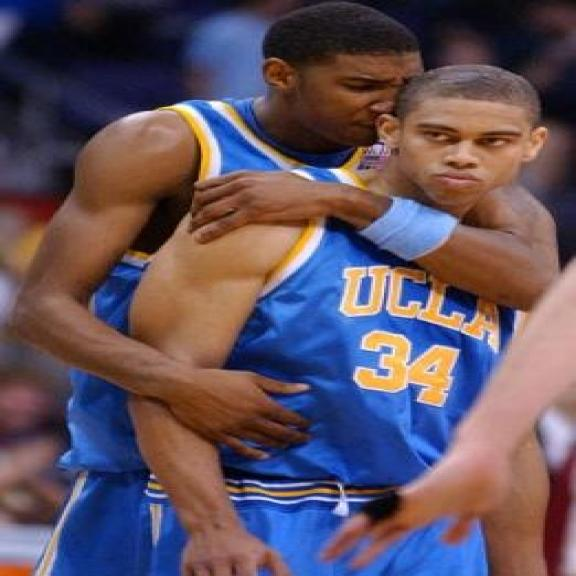face: (376, 88, 546, 210), (261, 43, 418, 154)
